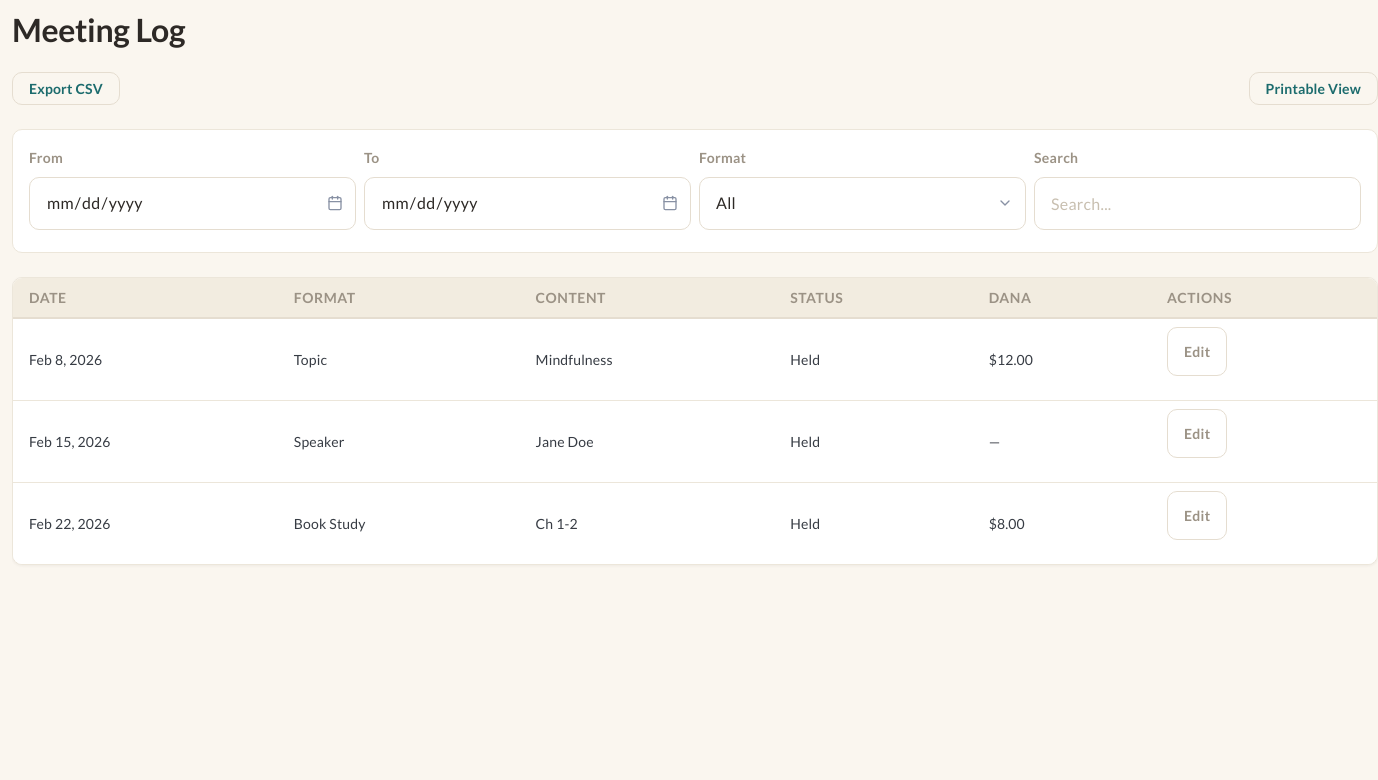
Scenario: Log › filtering › filters by format type
Expected: the text "Mindfulness" is shown, [520,319,774,401]
Select "Speaker" in the dropdown labelled "Format": (862, 203) [699,177,1026,230]
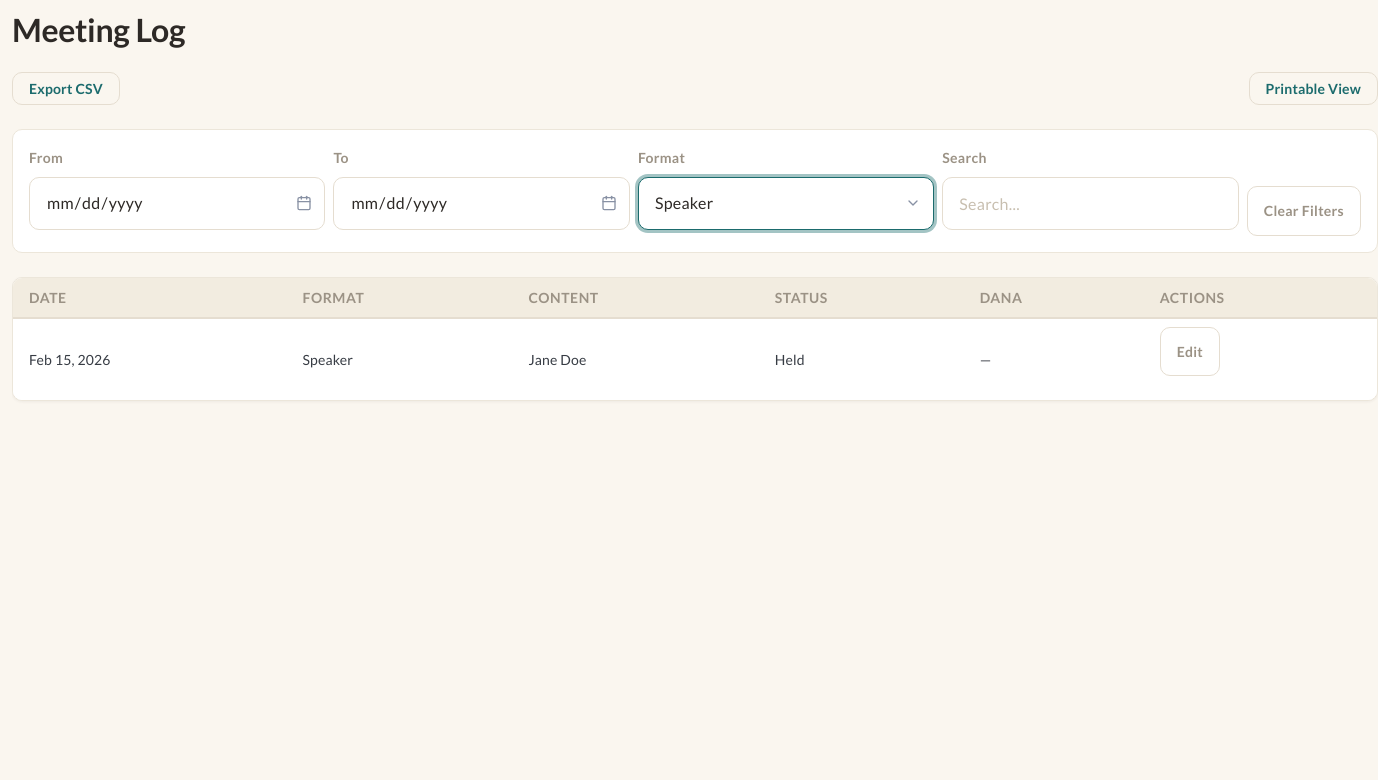
Expected: the text "Jane Doe" is shown, [512,319,759,400]
Expected: the text "Mindfulness" is gone
